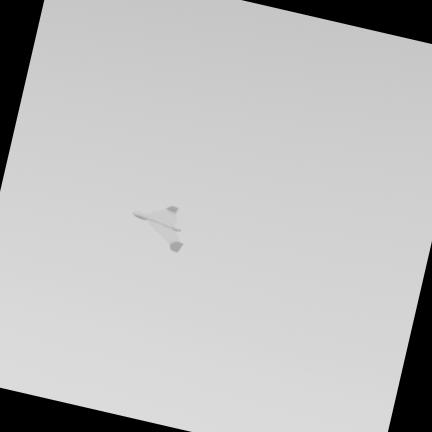Shahed: (133, 206, 183, 252)
